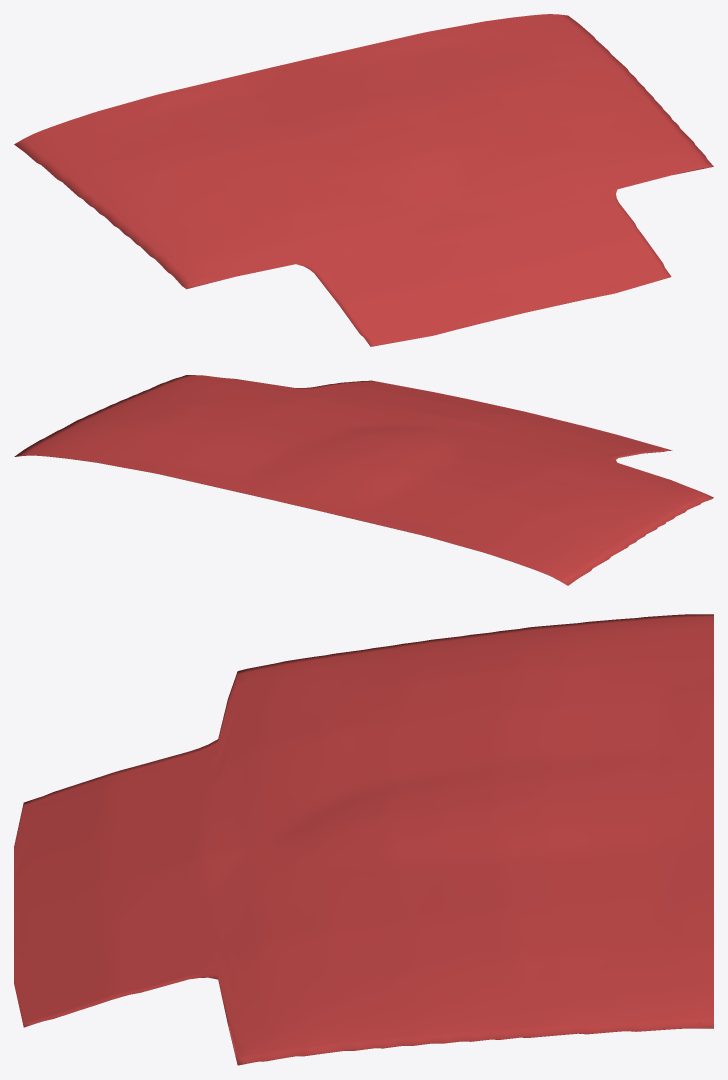
File: DT79_bonnet_wrap_accent.glb
3 renders of one model, top to bottom at view 1: azimuth 30°, elevation 25°; view 2: azimuth 150°, elevation 25°; view 3: azimuth 270°, elevation 25°, orthographic. The views are drawn at different scales.
Parts seen in each view (by area): view 1: MOD_NA_DT79_wrap; view 2: MOD_NA_DT79_wrap; view 3: MOD_NA_DT79_wrap.
Part boxes in pixels (<box>): MOD_NA_DT79_wrap: <box>14,14,713,346</box>; MOD_NA_DT79_wrap: <box>14,375,713,585</box>; MOD_NA_DT79_wrap: <box>14,614,713,1065</box>.
Bounding box in the file's own units: 1.37 × 0.1961 × 1.
